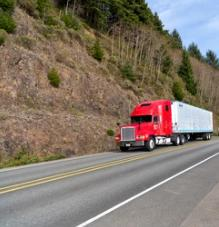vehicle: (115, 99, 213, 151)
